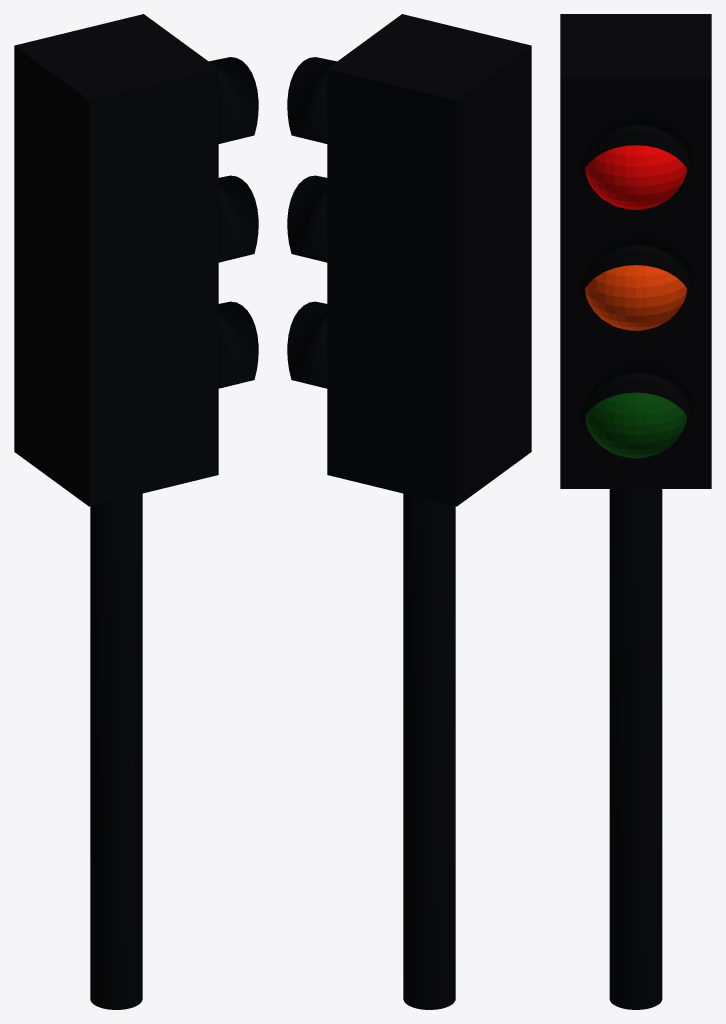
Rendered from semaforo.obj.
3 renders of one model, left to right at view 1: azimuth 30°, elevation 25°; view 2: azimuth 150°, elevation 25°; view 3: azimuth 270°, elevation 25°, orthographic.
Visible parts, largest first — view 1: Cylinder; view 2: Cylinder; view 3: Cylinder.
Boxes of the visible parts, bbox=[...] form: Cylinder: bbox=[14, 14, 258, 1009]; Cylinder: bbox=[287, 14, 531, 1009]; Cylinder: bbox=[560, 14, 711, 1009].
Size of the model in its own units: 2.95 by 13.91 by 2.
